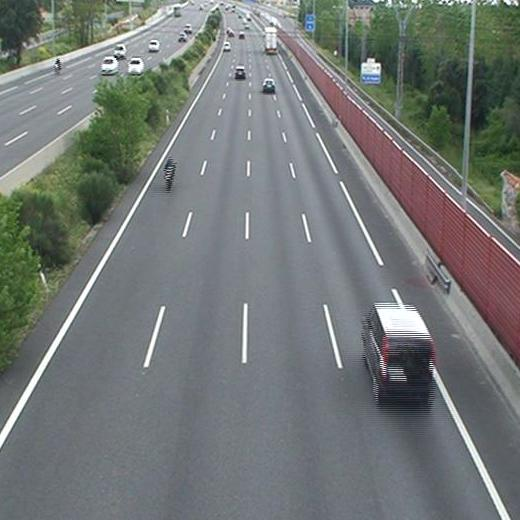car: (263, 79, 275, 91), (234, 67, 246, 78), (223, 41, 230, 51)
motorcycle: (164, 155, 177, 190)
truck: (263, 27, 276, 53)
van: (363, 305, 431, 398)
